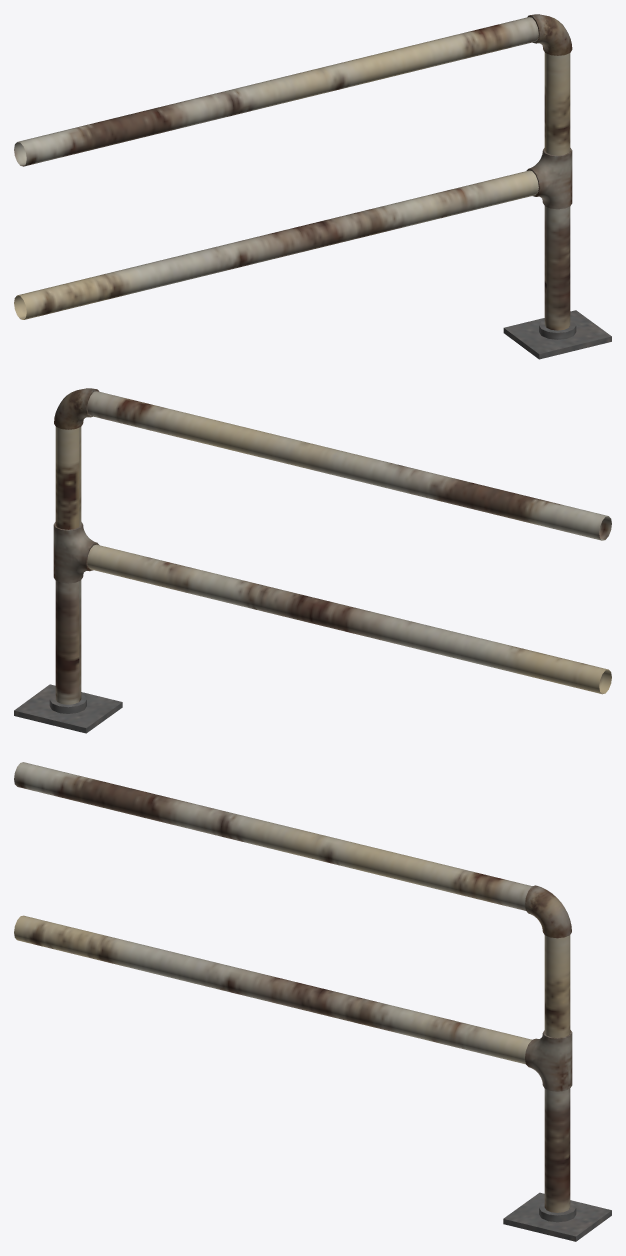
Rendered from metal_fence_end.fbx.
3 views of the same model, one above another, from view 1: azimuth 30°, elevation 25°; view 2: azimuth 150°, elevation 25°; view 3: azimuth 330°, elevation 25° (orthographic).
Visible parts, largest first — view 1: metal_fence_end; view 2: metal_fence_end; view 3: metal_fence_end.
Boxes of the visible parts, x1,y1,x2,y2 form: metal_fence_end: [14, 14, 611, 359]; metal_fence_end: [14, 388, 611, 733]; metal_fence_end: [14, 762, 611, 1241].
Size of the model in its own units: 214 by 117 by 23.17.
